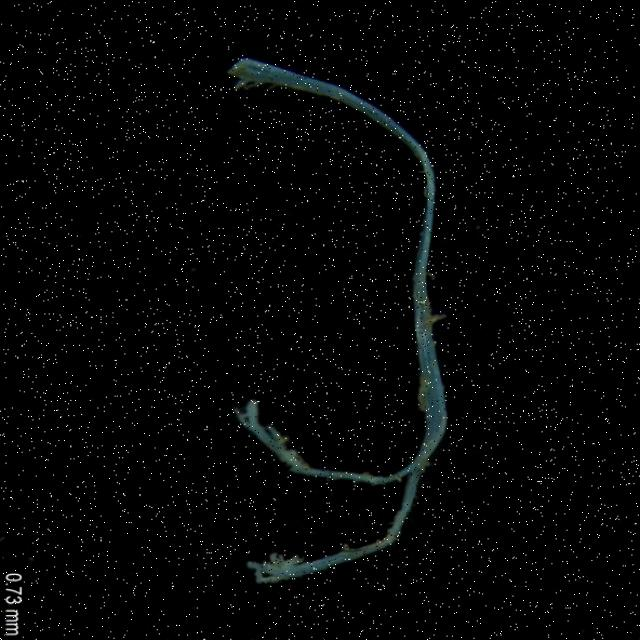Fibre: (220, 39, 450, 589)
